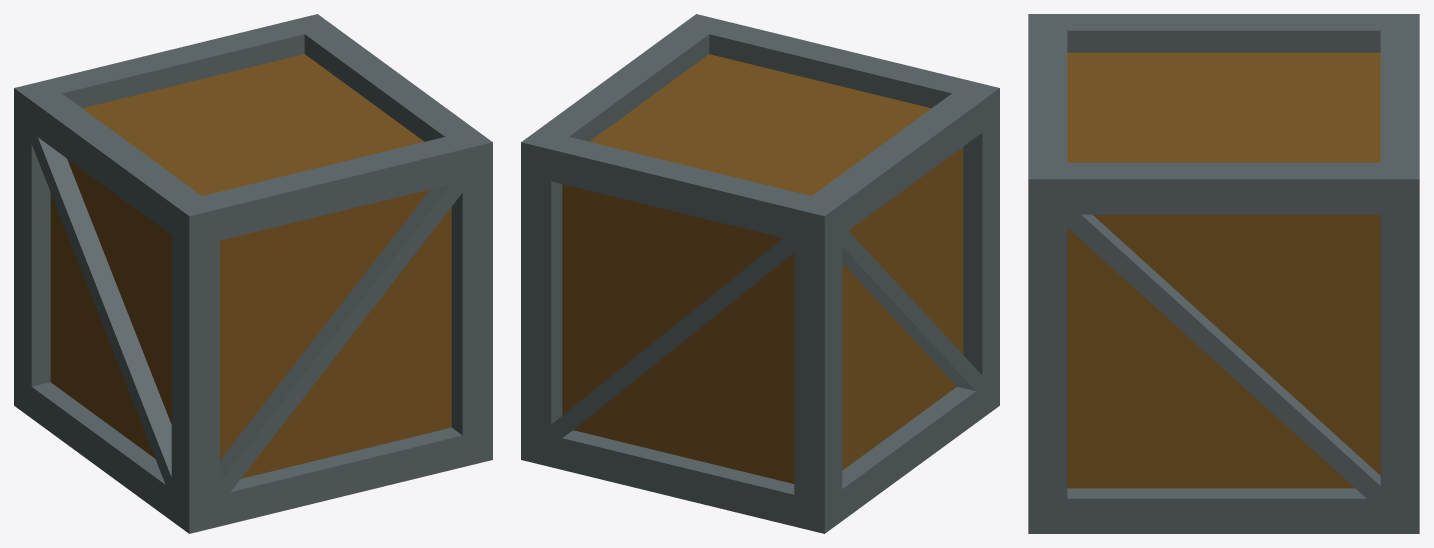
The model's file is Low Poly Crate.fbx.
3 views of the same model, side by side, from view 1: azimuth 30°, elevation 25°; view 2: azimuth 150°, elevation 25°; view 3: azimuth 270°, elevation 25° (orthographic). The views are drawn at different scales.
Visible parts, largest first — view 1: Low_Poly_Crate; view 2: Low_Poly_Crate; view 3: Low_Poly_Crate.
Boxes of the visible parts, x1,y1,x2,y2 form: Low_Poly_Crate: [14, 14, 492, 533]; Low_Poly_Crate: [521, 14, 999, 533]; Low_Poly_Crate: [1028, 14, 1419, 533].
Bounding box in the file's own units: 200 × 200 × 200.
